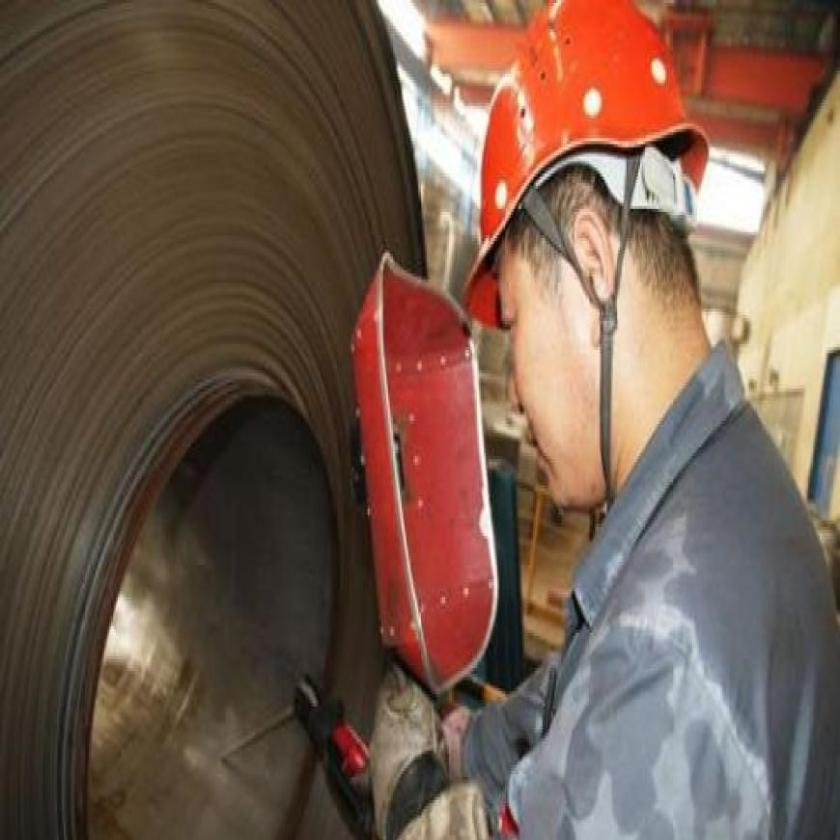Con_casco: (450, 0, 714, 571)
